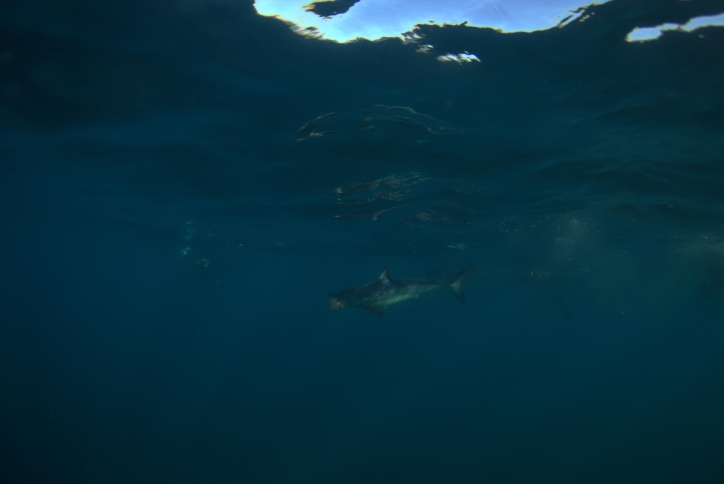Mako: (315, 259, 478, 328)
